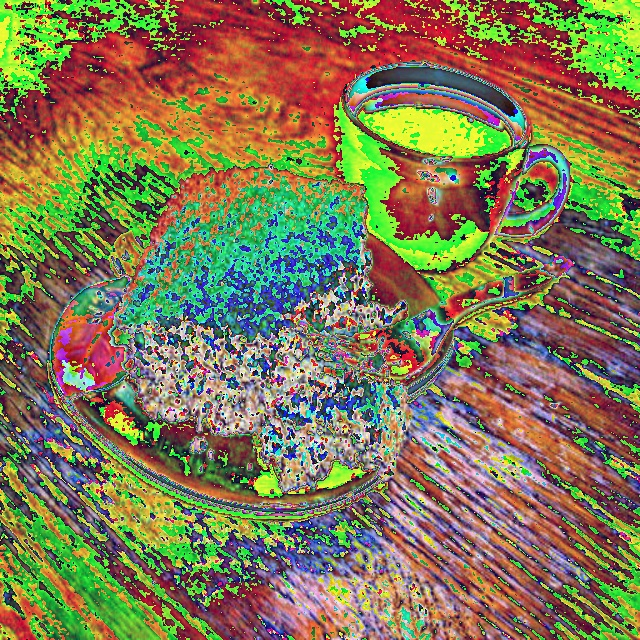background: (114, 164, 412, 491), (158, 73, 514, 156)
